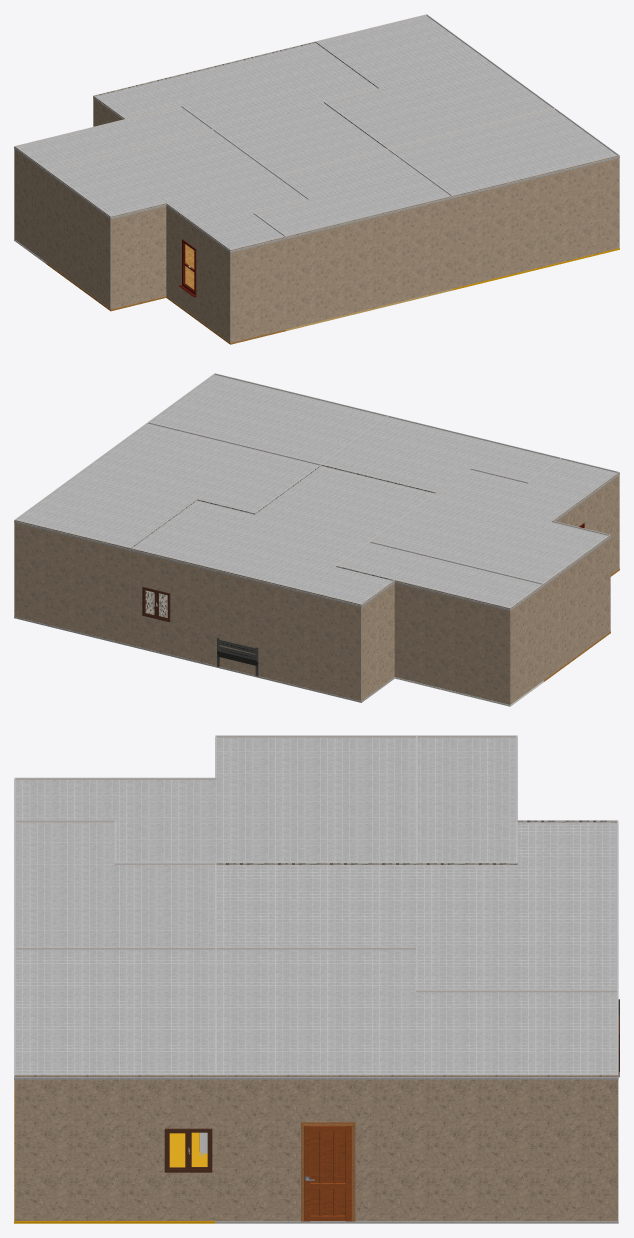
Rendered from ProcTHOR-Train-105.glb.
3 views of the same model, one above another, from view 1: azimuth 30°, elevation 25°; view 2: azimuth 150°, elevation 25°; view 3: azimuth 270°, elevation 25° (orthographic). The views are drawn at different scales.
Visible parts, largest first — view 1: Ceiling#room|4|c, Ceiling#room|8|c, Ceiling#room|6|c, WallInside#wall|exterior|0.00|13.50|5.79|13.50, WallInside#wall|exterior|5.79|13.50|11.57|13.50, Ceiling#room|9|c, Ceiling#room|5|c, WallInside#wall|exterior|15.43|5.79|15.43|9.64, WallInside#wall|exterior|13.50|9.64|13.50|13.50, WallInside#wall|exterior|11.57|13.50|13.50|13.50, WallInside#wall|exterior|13.50|9.64|15.43|9.64, Ceiling#room|7|c (+4 smaller); view 2: WallInside#wall|exterior|3.86|1.93|11.57|1.93, Ceiling#room|4|c, Ceiling#room|8|c, Ceiling#room|6|c, WallInside#wall|exterior|0.00|1.93|3.86|1.93, WallInside#wall|exterior|11.57|3.86|15.43|3.86, Ceiling#room|9|c, Ceiling#room|5|c, WallInside#wall|exterior|15.43|5.79|15.43|9.64, Ceiling#room|7|c, WallInside#wall|exterior|11.57|1.93|11.57|3.86, WallInside#wall|exterior|15.43|3.86|15.43|5.79 (+5 smaller); view 3: WallInside#wall|exterior|0.00|1.93|0.00|9.64, Ceiling#room|4|c, Ceiling#room|8|c, Ceiling#room|6|c, WallInside#wall|exterior|0.00|9.64|0.00|13.50, Ceiling#room|9|c, Ceiling#room|5|c, Ceiling#room|7|c, Doorway_10, Floor#room|9|f, Floor#room|8|f, Window_Slider_36x36.
Boxes of the visible parts, box(x1,y1,x2,y2) form: Ceiling#room|4|c: box(93, 43, 385, 176); Ceiling#room|8|c: box(316, 15, 552, 148); Ceiling#room|6|c: box(46, 130, 307, 252); WallInside#wall|exterior|0.00|13.50|5.79|13.50: box(452, 155, 619, 288); WallInside#wall|exterior|5.79|13.50|11.57|13.50: box(286, 196, 452, 329); Ceiling#room|9|c: box(390, 109, 619, 198); Ceiling#room|5|c: box(254, 150, 453, 238); WallInside#wall|exterior|15.43|5.79|15.43|9.64: box(46, 170, 110, 309); WallInside#wall|exterior|13.50|9.64|13.50|13.50: box(166, 203, 230, 342); WallInside#wall|exterior|11.57|13.50|13.50|13.50: box(230, 236, 286, 342); WallInside#wall|exterior|13.50|9.64|15.43|9.64: box(111, 203, 166, 309); Ceiling#room|7|c: box(14, 107, 211, 172); WallInside#wall|exterior|3.86|1.93|11.57|1.93: box(130, 548, 361, 700); Ceiling#room|4|c: box(129, 466, 436, 607); Ceiling#room|8|c: box(14, 423, 320, 550); Ceiling#room|6|c: box(372, 459, 619, 586); WallInside#wall|exterior|0.00|1.93|3.86|1.93: box(14, 520, 130, 644); WallInside#wall|exterior|11.57|3.86|15.43|3.86: box(394, 580, 510, 704); Ceiling#room|9|c: box(150, 375, 385, 463); Ceiling#room|5|c: box(322, 417, 559, 493); WallInside#wall|exterior|15.43|5.79|15.43|9.64: box(543, 535, 610, 680); Ceiling#room|7|c: box(339, 543, 544, 610); WallInside#wall|exterior|11.57|1.93|11.57|3.86: box(361, 580, 394, 700); WallInside#wall|exterior|15.43|3.86|15.43|5.79: box(510, 584, 543, 704); WallInside#wall|exterior|0.00|1.93|0.00|9.64: box(215, 1075, 617, 1220); Ceiling#room|4|c: box(215, 822, 618, 991); Ceiling#room|8|c: box(215, 949, 618, 1079); Ceiling#room|6|c: box(14, 737, 417, 862); WallInside#wall|exterior|0.00|9.64|0.00|13.50: box(14, 1075, 216, 1220); Ceiling#room|9|c: box(14, 949, 216, 1079); Ceiling#room|5|c: box(14, 822, 216, 948); Ceiling#room|7|c: box(415, 737, 517, 862); Doorway_10: box(301, 1122, 355, 1221); Floor#room|9|f: box(14, 1093, 216, 1223); Floor#room|8|f: box(215, 1136, 618, 1223); Window_Slider_36x36: box(164, 1128, 212, 1172).
Size of what is drawn, in the model's own units: 15.57 by 3.15 by 11.64.
Materials: 421 (176 with a texture image).
